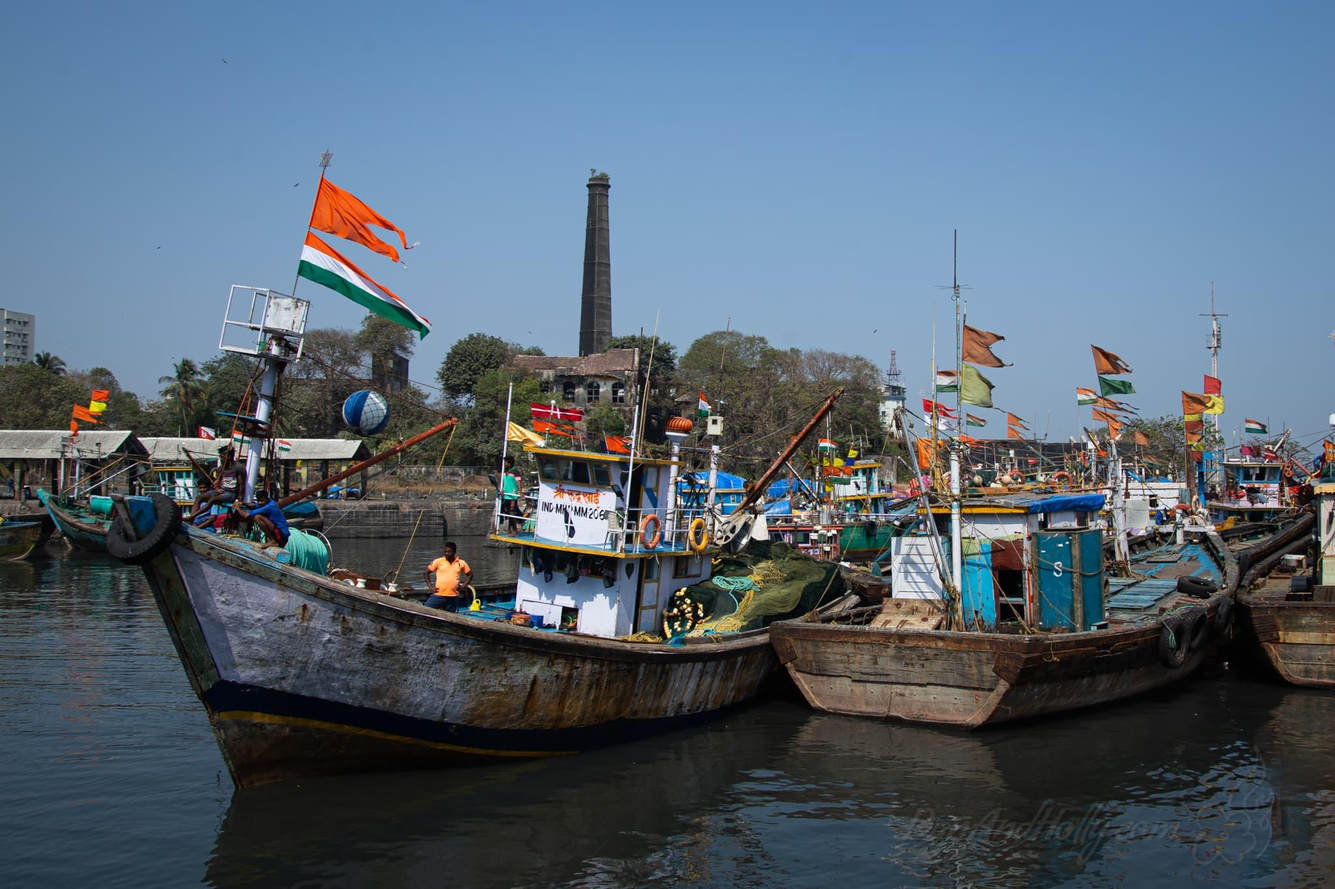fishing boat: (102, 148, 891, 794), (767, 223, 1242, 732), (34, 389, 321, 544)
